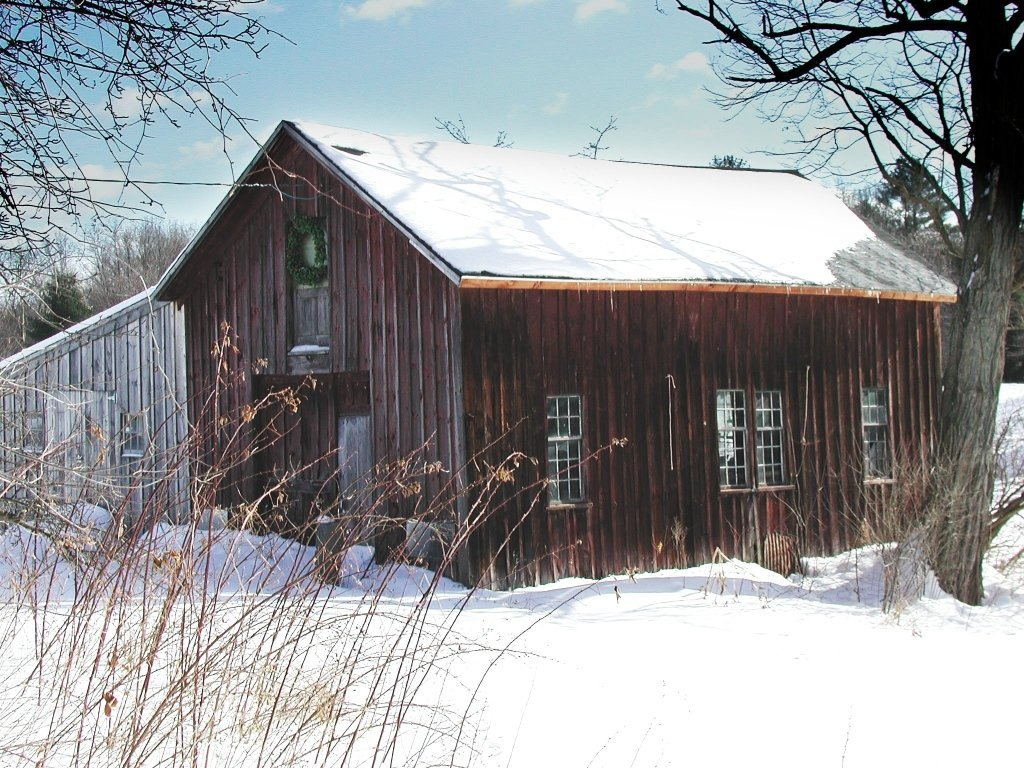Tree: (657, 0, 1022, 600), (0, 0, 295, 335), (0, 210, 190, 365), (881, 147, 952, 231), (428, 112, 506, 145), (579, 110, 613, 159), (709, 154, 755, 169)
